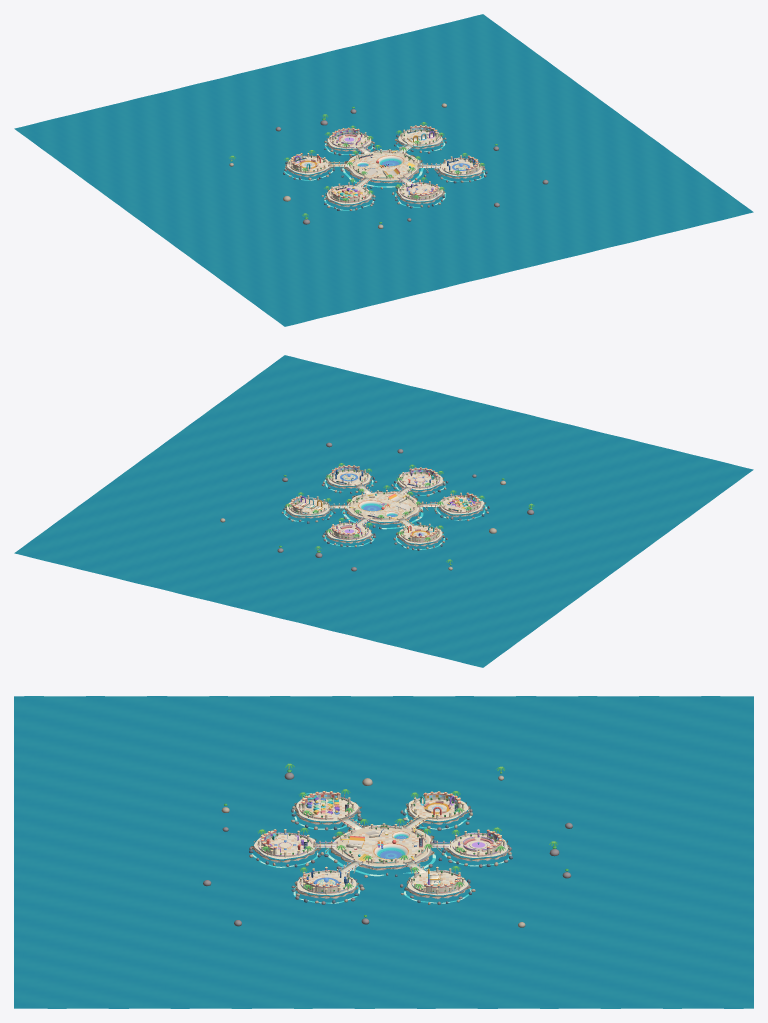
The model's file is duderworld-archipelago-v0-3.glb.
The picture shows the model from 3 angles, top to bottom: view 1: azimuth 30°, elevation 25°; view 2: azimuth 150°, elevation 25°; view 3: azimuth 270°, elevation 25°; orthographic projection. The views are drawn at different scales.
Visible parts, largest first — view 1: ocean / solid, skate / solid, arcade / solid, physics / solid, sessions / solid, friends / solid, voice / solid, network / solid, bridges / solid; view 2: ocean / solid, skate / solid, arcade / solid, physics / solid, sessions / solid, network / solid, friends / solid, voice / solid, bridges / solid; view 3: ocean / solid, skate / solid, physics / solid, arcade / solid, friends / solid, sessions / solid, voice / solid, network / solid, bridges / solid, offshore-rocks / solid.
Part boxes in pixels (x1,y1,x2,y2): ocean / solid: (14,14,753,326); skate / solid: (341,145,428,189); arcade / solid: (392,177,444,208); physics / solid: (321,179,375,210); sessions / solid: (394,122,446,153); friends / solid: (283,150,334,180); voice / solid: (324,125,375,155); network / solid: (435,153,487,183); bridges / solid: (328,142,441,187); ocean / solid: (14,355,753,667); skate / solid: (342,485,427,529); arcade / solid: (391,464,448,496); physics / solid: (434,490,489,521); sessions / solid: (281,492,335,523); network / solid: (321,463,377,493); friends / solid: (393,523,447,550); voice / solid: (322,518,375,547); bridges / solid: (328,482,440,527); ocean / solid: (14,696,753,1008); skate / solid: (324,818,444,877); physics / solid: (291,789,362,830); arcade / solid: (249,827,323,867); friends / solid: (400,791,472,830); sessions / solid: (400,866,475,904); voice / solid: (442,827,512,867); network / solid: (291,867,364,904); bridges / solid: (313,815,451,874); offshore-rocks / solid: (203,763,572,927).
Bounding box in the file's own units: 360 × 9.83 × 360.
